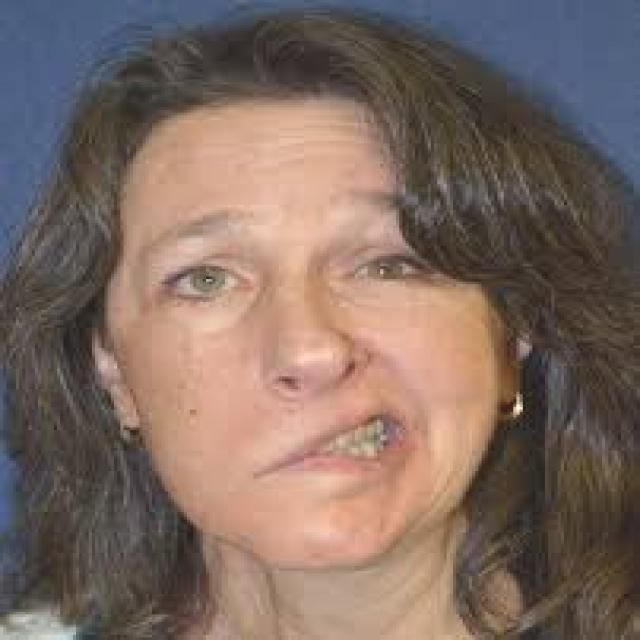stroke_face: (46, 38, 635, 640)
